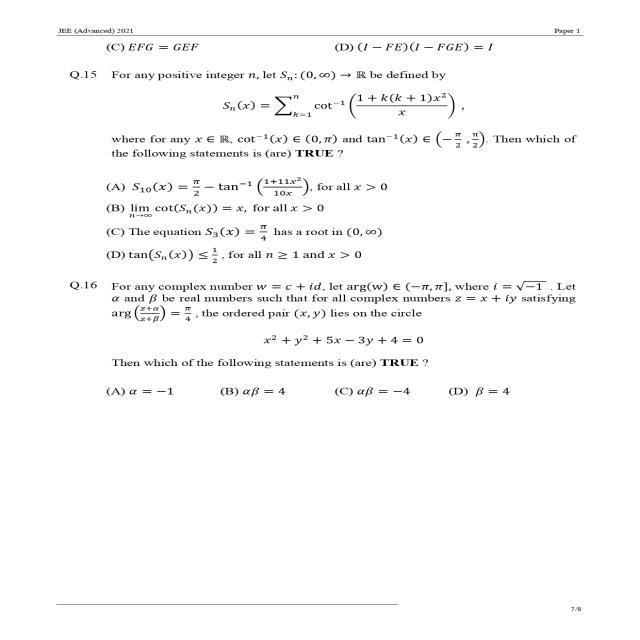Answer_Block: (45, 176, 603, 276), (45, 376, 603, 422), (45, 38, 603, 62)
Question_Answer_Block: (45, 67, 603, 276), (45, 280, 603, 422)
Question_Block: (45, 66, 603, 174), (45, 280, 603, 372)
Question_Paper_Area: (45, 37, 603, 532)
